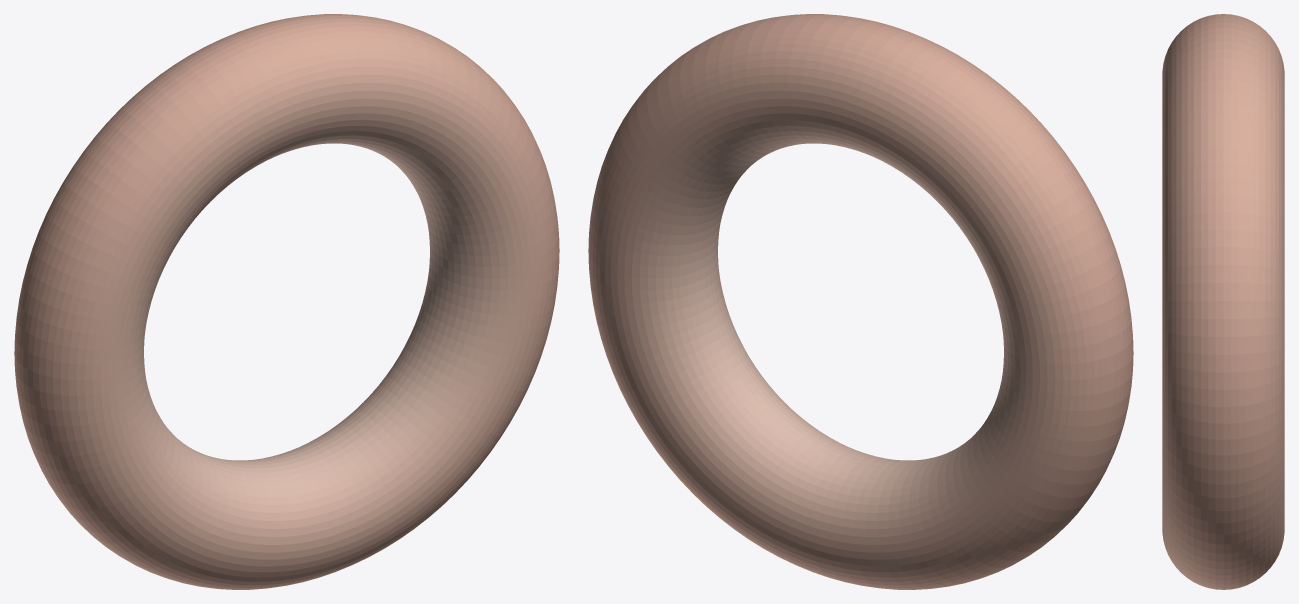
The picture shows the model from 3 angles, left to right: view 1: azimuth 30°, elevation 25°; view 2: azimuth 150°, elevation 25°; view 3: azimuth 270°, elevation 25°; orthographic projection. The views are drawn at different scales.
Parts seen in each view (by area): view 1: world; view 2: world; view 3: world.
Boxes of the visible parts, x1=… form: world: x1=14, y1=14, x2=559, y2=589; world: x1=588, y1=14, x2=1133, y2=589; world: x1=1162, y1=14, x2=1284, y2=589.
Size of the model in its own units: 16.93 by 16.93 by 3.59.
